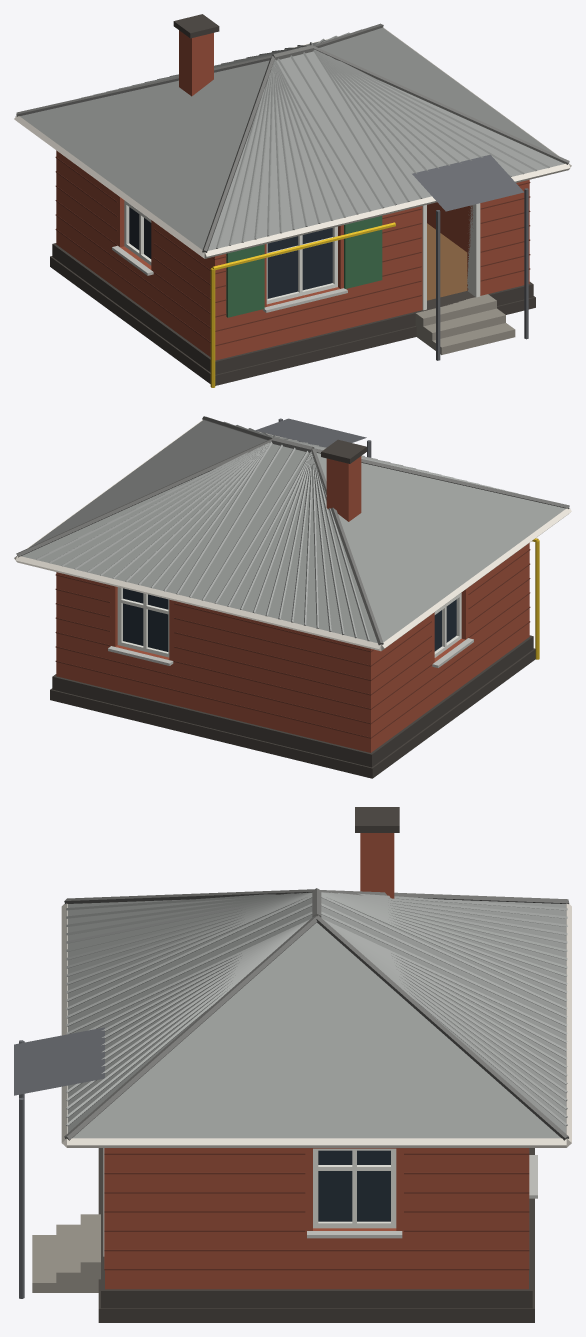
Rendered from KG_House_Brick.obj.
The picture shows the model from 3 angles, top to bottom: view 1: azimuth 30°, elevation 25°; view 2: azimuth 150°, elevation 25°; view 3: azimuth 270°, elevation 25°; orthographic projection. The views are drawn at different scales.
Visible parts, largest first — view 1: KG_House_Brick; view 2: KG_House_Brick; view 3: KG_House_Brick.
Part boxes in pixels (<box>): KG_House_Brick: <box>14,14,571,387</box>; KG_House_Brick: <box>14,416,571,778</box>; KG_House_Brick: <box>14,807,571,1322</box>.
Size of the model in its own units: 7.54 by 5.15 by 7.37.
